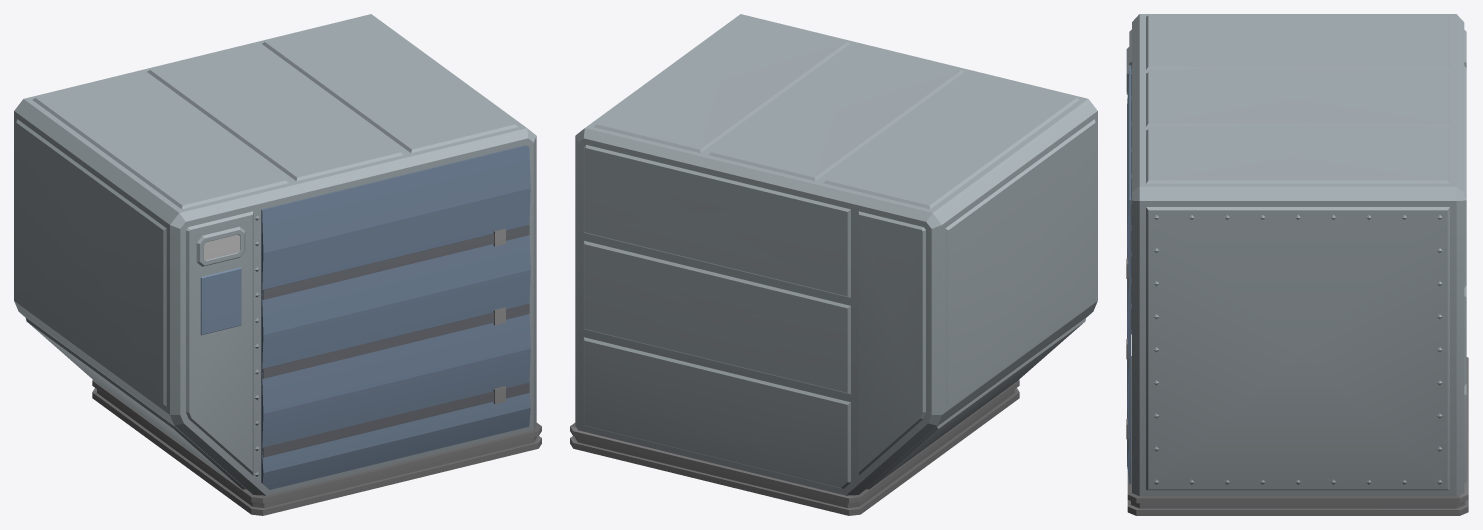
File: uld.glb
The picture shows the model from 3 angles, left to right: view 1: azimuth 30°, elevation 25°; view 2: azimuth 150°, elevation 25°; view 3: azimuth 270°, elevation 25°; orthographic projection.
Parts seen in each view (by area): view 1: uld; view 2: uld; view 3: uld.
Boxes of the visible parts, <box> form: uld: <box>14,14,541,515</box>; uld: <box>570,14,1097,515</box>; uld: <box>1126,14,1468,515</box>.
Bounding box in the file's own units: 2 × 1.64 × 1.57.
